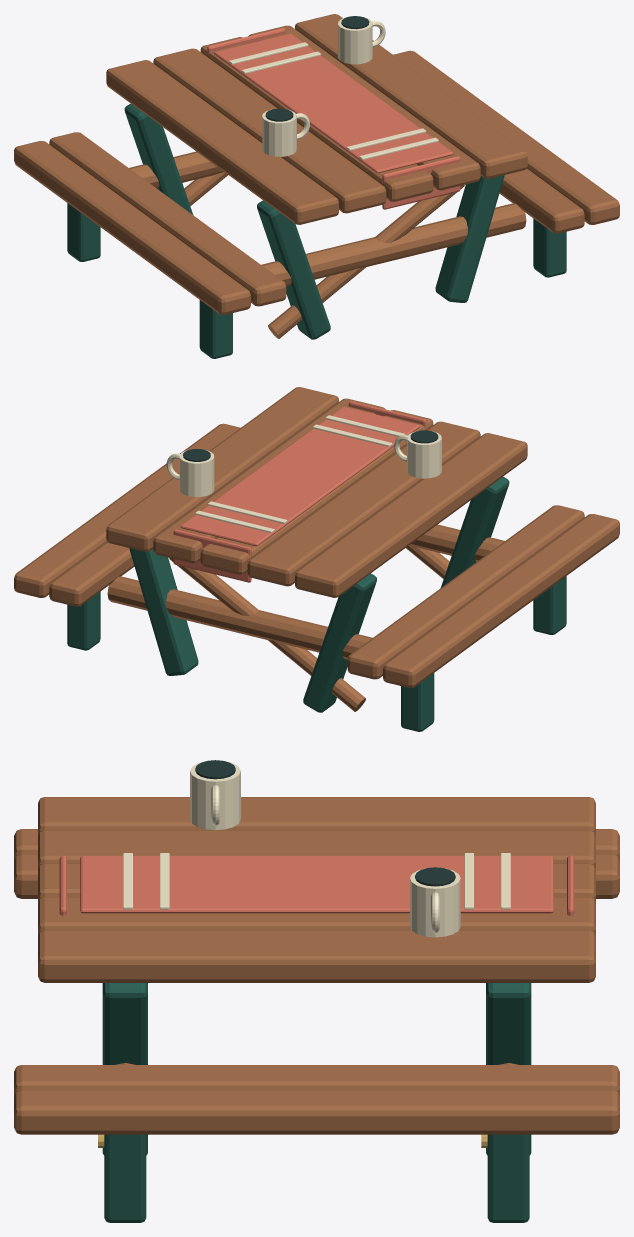
Rendered from 04_ridge_picnic_table.glb.
3 views of the same model, one above another, from view 1: azimuth 30°, elevation 25°; view 2: azimuth 150°, elevation 25°; view 3: azimuth 270°, elevation 25° (orthographic). The views are drawn at different scales.
Parts seen in each view (by area): view 1: 04_ridge_picnic_table; view 2: 04_ridge_picnic_table; view 3: 04_ridge_picnic_table.
Boxes of the visible parts, x1=… form: 04_ridge_picnic_table: x1=14, y1=14, x2=619, y2=358; 04_ridge_picnic_table: x1=14, y1=387, x2=619, y2=731; 04_ridge_picnic_table: x1=14, y1=760, x2=619, y2=1222.
Size of the model in its own units: 2.38 by 1.12 by 2.15.
